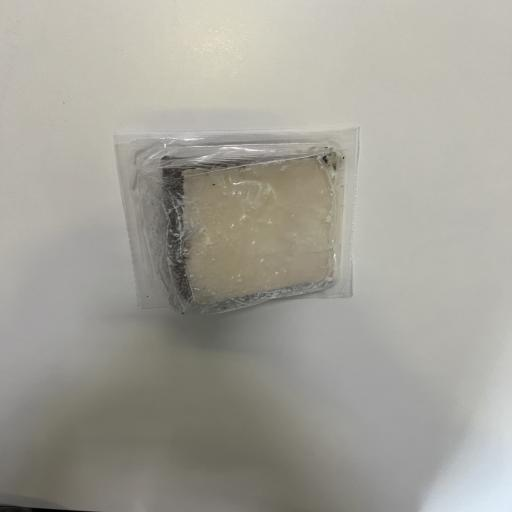cured_goat_cheese: (106, 122, 376, 323)
